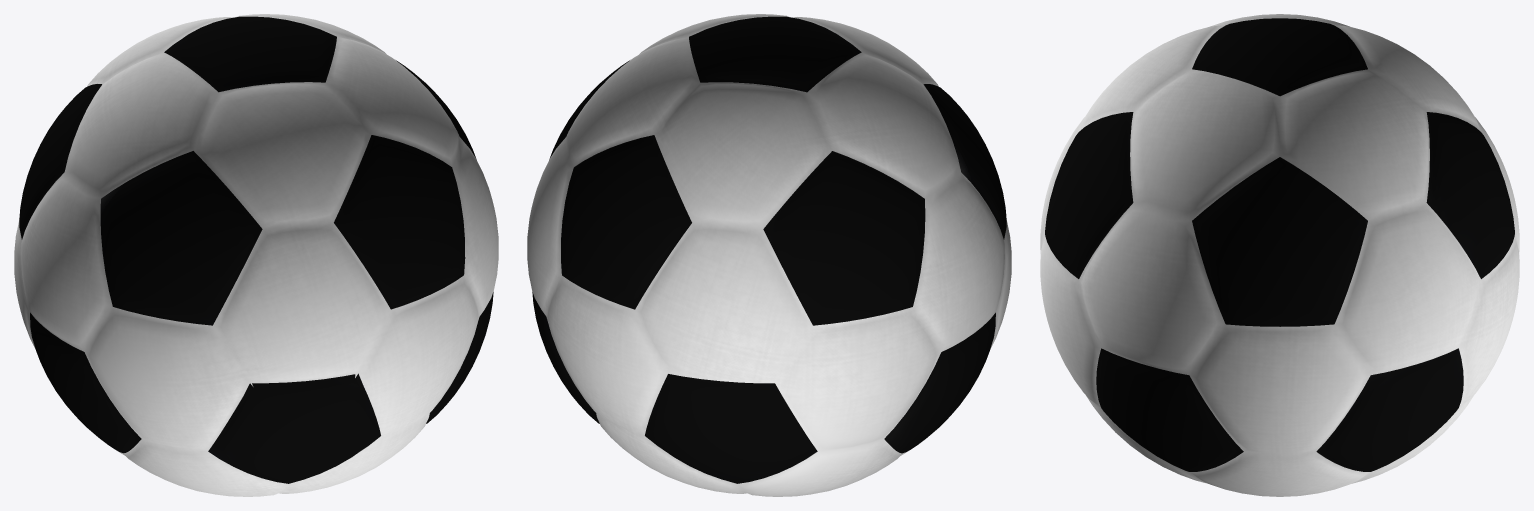
Rendered from soccer_ball.obj.
The picture shows the model from 3 angles, left to right: view 1: azimuth 30°, elevation 25°; view 2: azimuth 150°, elevation 25°; view 3: azimuth 270°, elevation 25°; orthographic projection.
Parts seen in each view (by area): view 1: obj2, obj1; view 2: obj2, obj1; view 3: obj2, obj1.
Boxes of the visible parts, x1,y1,x2,y2 form: obj2: (14,14,498,496); obj1: (19,16,493,483); obj2: (527,14,1011,496); obj1: (532,16,1006,483); obj2: (1040,14,1519,496); obj1: (1045,18,1514,471).
Bounding box in the file's own units: 2.1 × 2.11 × 2.09.
Materials: 2 (2 with a texture image).
